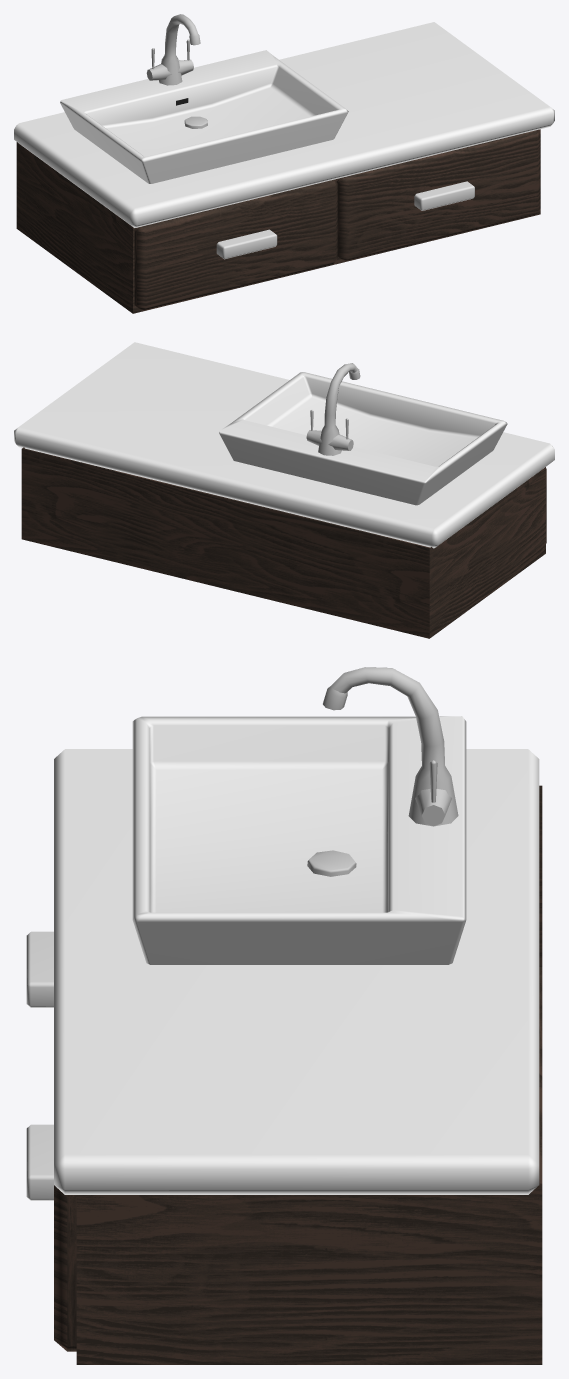
Rendered from bathroom_022.fbx.
The picture shows the model from 3 angles, top to bottom: view 1: azimuth 30°, elevation 25°; view 2: azimuth 150°, elevation 25°; view 3: azimuth 270°, elevation 25°; orthographic projection. The views are drawn at different scales.
Parts seen in each view (by area): view 1: bathroom_022; view 2: bathroom_022; view 3: bathroom_022.
Part boxes in pixels (x1,y1,x2,y2): bathroom_022: [14, 14, 554, 313]; bathroom_022: [14, 342, 554, 638]; bathroom_022: [26, 667, 542, 1364].
Size of the model in its own units: 147 by 77.17 by 69.8.
